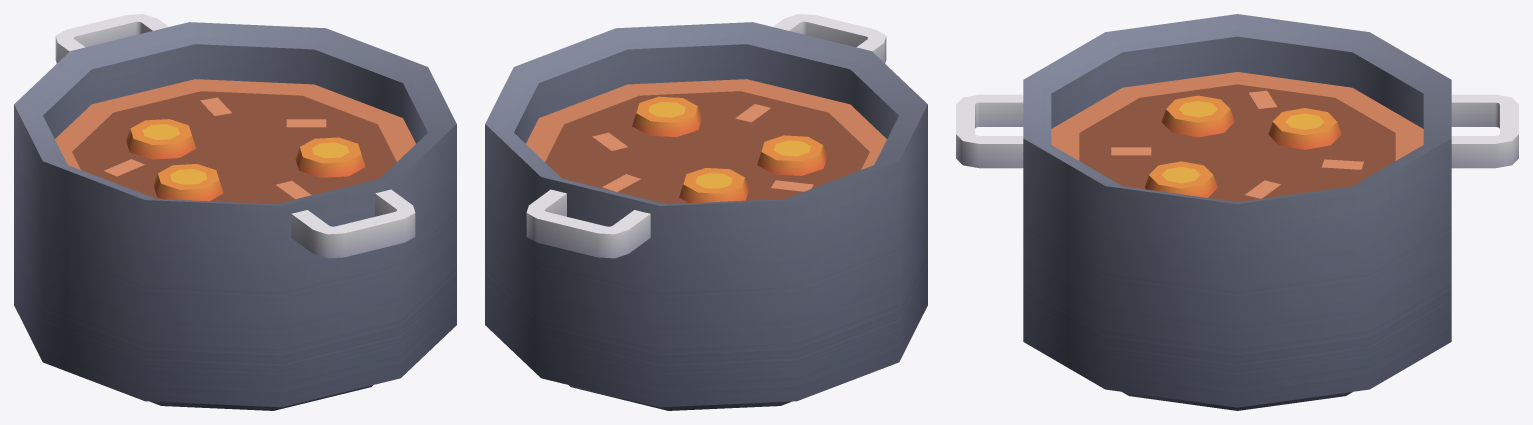
File: pot-stew.glb
3 renders of one model, left to right at view 1: azimuth 30°, elevation 25°; view 2: azimuth 150°, elevation 25°; view 3: azimuth 270°, elevation 25°, orthographic.
Parts seen in each view (by area): view 1: pot-stew; view 2: pot-stew; view 3: pot-stew.
Boxes of the visible parts, box(x1,y1,x2,y2) form: pot-stew: box(14, 14, 456, 410); pot-stew: box(485, 14, 927, 410); pot-stew: box(956, 14, 1518, 410).
Bounding box in the file's own units: 0.6575 × 0.3608 × 0.8221.
1 material, 1 textured.
